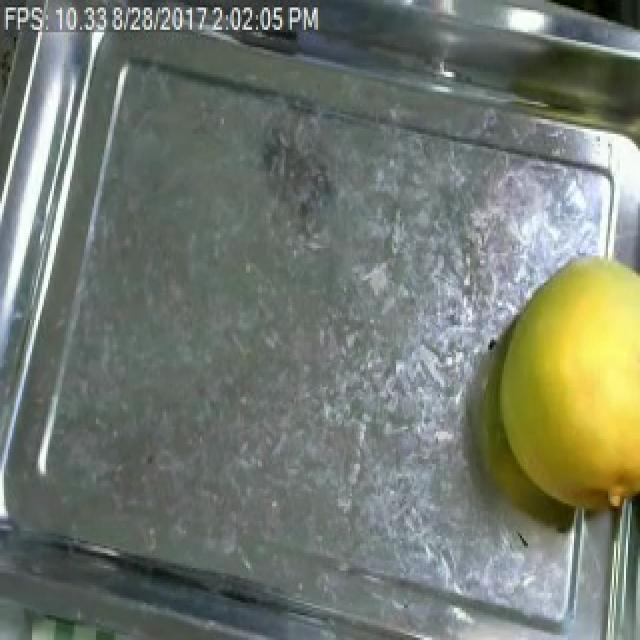fruit: (464, 223, 640, 526)
